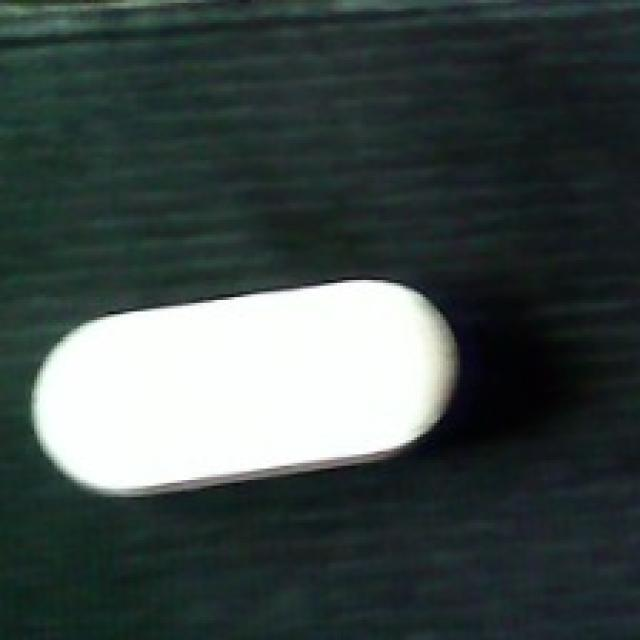no-defect: (28, 280, 463, 500)
